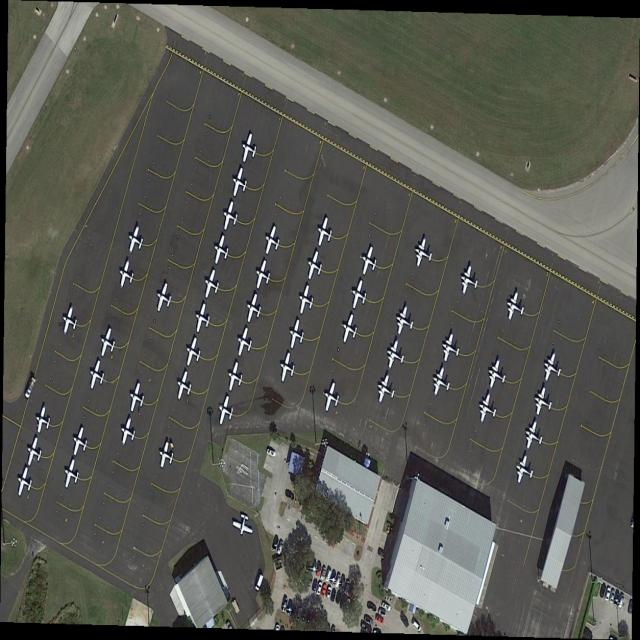large-vehicle: (25, 376, 37, 400)
plane: (383, 336, 408, 376), (512, 452, 537, 491), (503, 289, 528, 327), (475, 391, 499, 430), (374, 371, 398, 410), (429, 365, 454, 402), (522, 418, 546, 456), (531, 383, 555, 421), (411, 235, 435, 273), (126, 379, 149, 418), (540, 351, 564, 388), (457, 263, 481, 300), (485, 357, 508, 395), (347, 276, 370, 314), (320, 379, 343, 417), (85, 357, 108, 395), (153, 280, 175, 319), (439, 331, 462, 368), (393, 304, 416, 341), (338, 311, 361, 348), (276, 349, 298, 387), (215, 392, 237, 430), (219, 198, 241, 236), (201, 266, 223, 304), (358, 242, 380, 280), (115, 257, 137, 295), (22, 434, 45, 470), (242, 291, 265, 327), (61, 455, 82, 494), (97, 324, 118, 363), (261, 223, 283, 260), (234, 324, 256, 361), (191, 300, 213, 337), (182, 334, 204, 371), (173, 368, 195, 405), (303, 247, 325, 284), (13, 464, 35, 501), (231, 510, 256, 542), (253, 257, 274, 295), (229, 164, 250, 202), (314, 213, 335, 251), (70, 423, 91, 461), (225, 359, 246, 396), (238, 131, 259, 168), (286, 317, 307, 354), (210, 233, 231, 269), (296, 283, 317, 319), (125, 223, 146, 259), (117, 415, 138, 450), (32, 404, 53, 438), (156, 438, 176, 472), (59, 304, 79, 337)
small-vehicle: (254, 574, 265, 593), (411, 618, 423, 633), (339, 593, 348, 611), (271, 536, 280, 553), (599, 582, 607, 600), (286, 600, 294, 618), (381, 600, 392, 613), (378, 548, 388, 562), (604, 586, 612, 603), (608, 588, 616, 605), (613, 590, 621, 607), (281, 597, 289, 614), (366, 600, 377, 612), (284, 489, 295, 501), (316, 581, 324, 597), (325, 568, 333, 584), (277, 540, 285, 556), (400, 614, 409, 628), (363, 615, 374, 626), (295, 607, 303, 622), (618, 593, 625, 610), (330, 587, 337, 603), (335, 590, 342, 606), (339, 576, 346, 592), (320, 566, 327, 582), (344, 580, 351, 595), (326, 586, 333, 601), (334, 574, 341, 589), (311, 578, 318, 593), (307, 574, 314, 589), (267, 448, 277, 458), (330, 571, 337, 585), (301, 608, 307, 624), (378, 608, 387, 618), (322, 583, 328, 597), (376, 615, 384, 625)
